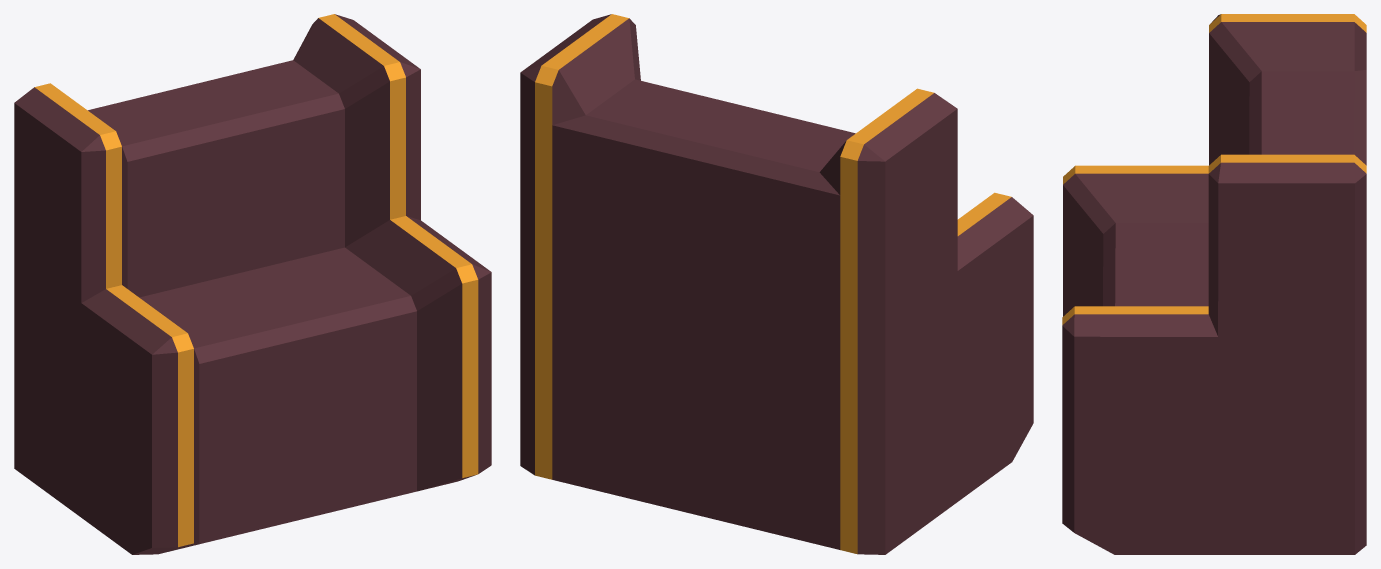
The model's file is scifi-sofa-single.fbx.
The picture shows the model from 3 angles, left to right: view 1: azimuth 30°, elevation 25°; view 2: azimuth 150°, elevation 25°; view 3: azimuth 270°, elevation 25°; orthographic projection. The views are drawn at different scales.
Visible parts, largest first — view 1: scifi-sofa-single; view 2: scifi-sofa-single; view 3: scifi-sofa-single.
Boxes of the visible parts, <box> form: scifi-sofa-single: <box>14,14,491,554</box>; scifi-sofa-single: <box>520,14,1033,554</box>; scifi-sofa-single: <box>1062,14,1366,554</box>.
Bounding box in the file's own units: 0.984 × 1.04 × 0.7528.
